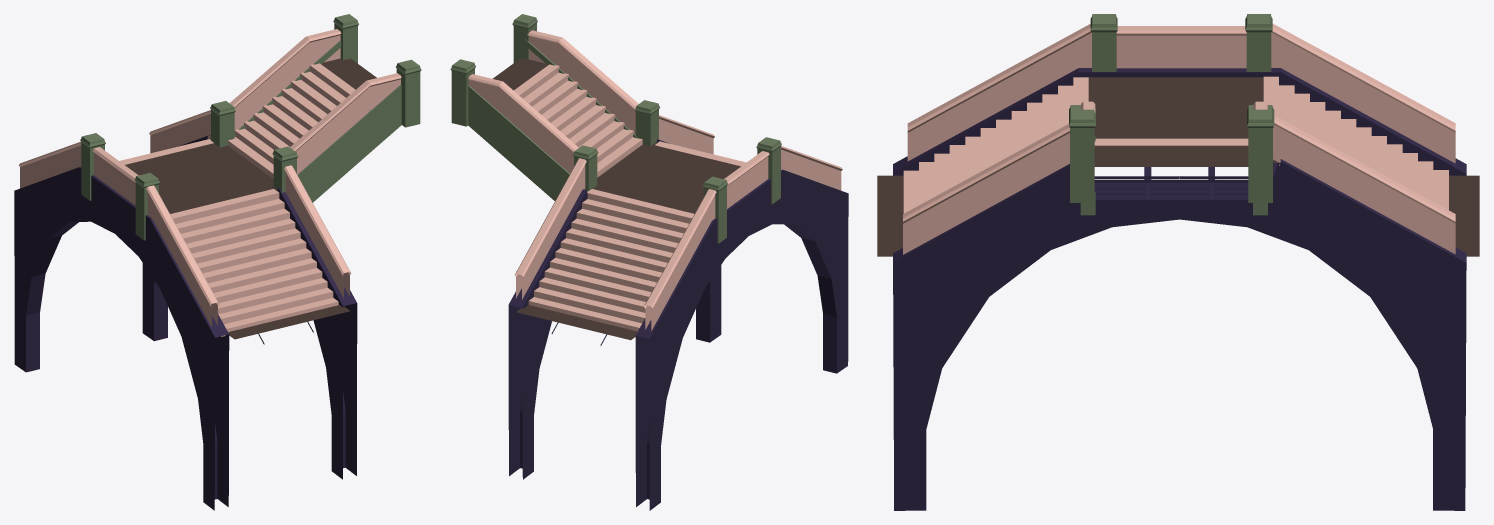
The model's file is Museum_Big_Stair_01.fbx.
3 renders of one model, left to right at view 1: azimuth 30°, elevation 25°; view 2: azimuth 150°, elevation 25°; view 3: azimuth 270°, elevation 25°, orthographic. The views are drawn at different scales.
Visible parts, largest first — view 1: Archi_Sol.001; view 2: Archi_Sol.001; view 3: Archi_Sol.001.
Part boxes in pixels (x1,y1,x2,y2): Archi_Sol.001: [14, 14, 421, 510]; Archi_Sol.001: [450, 14, 848, 510]; Archi_Sol.001: [877, 14, 1479, 510].
Size of the model in its own units: 1264 by 1498 by 1709.
